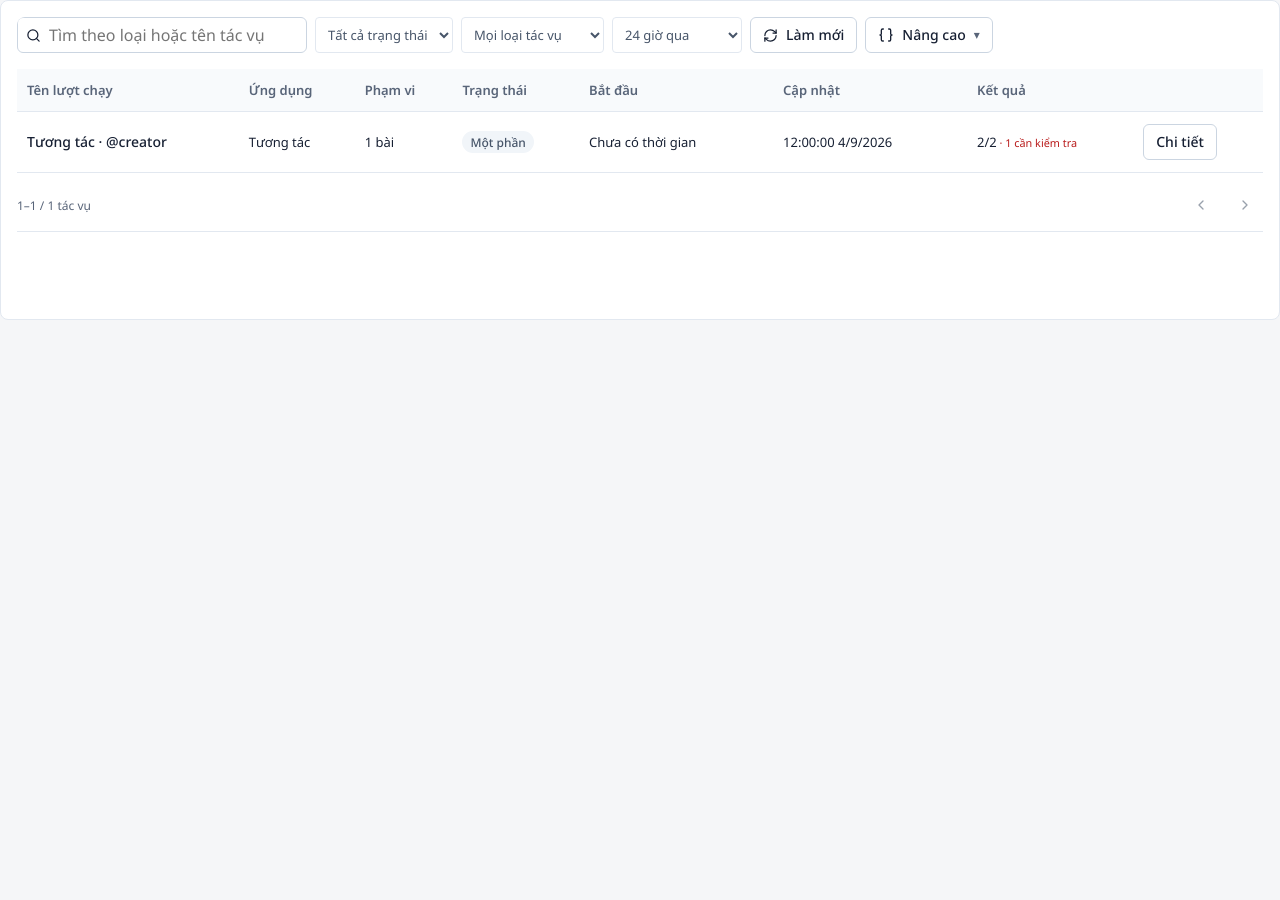
Test case: JobsPanel operations monitor › separates interaction posts from unique assignment devices
Click the button "Chi tiết". click: (1180, 142)
box: left=1143, top=124, right=1217, bottom=160
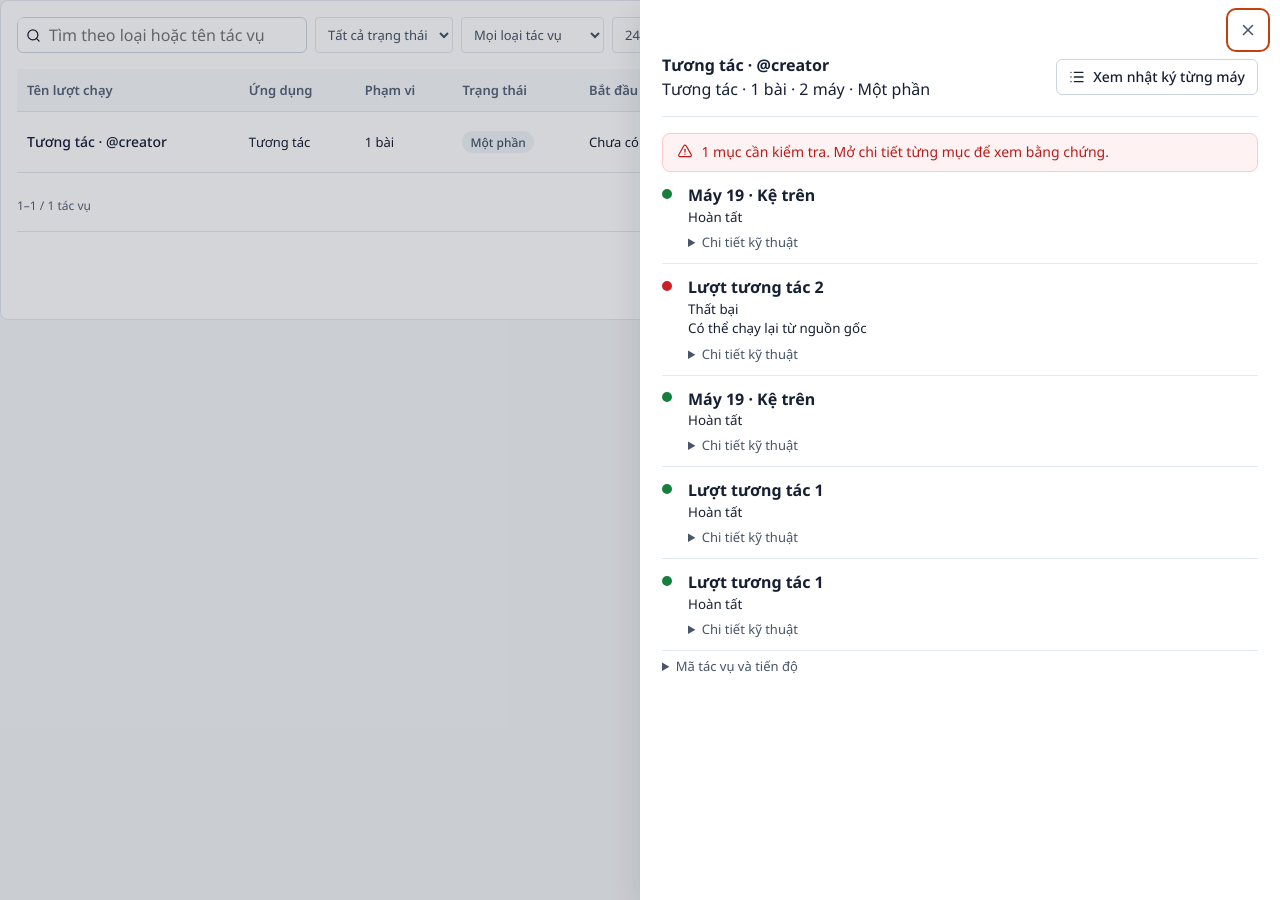
Check: the text "Tương tác · 1 bài · 2 máy · Một phần" is shown, box left=662, top=78, right=930, bottom=100
